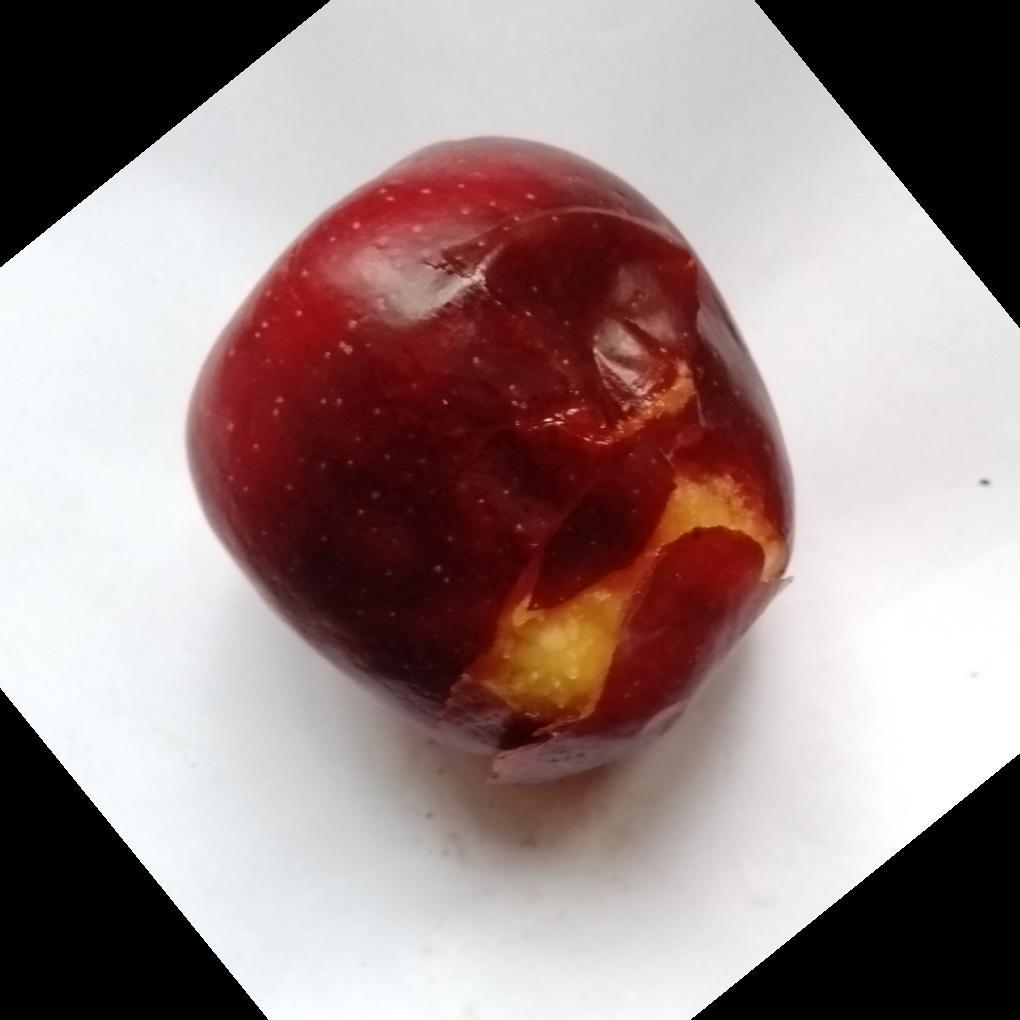FreshOrange: (11, 133, 799, 1019)
